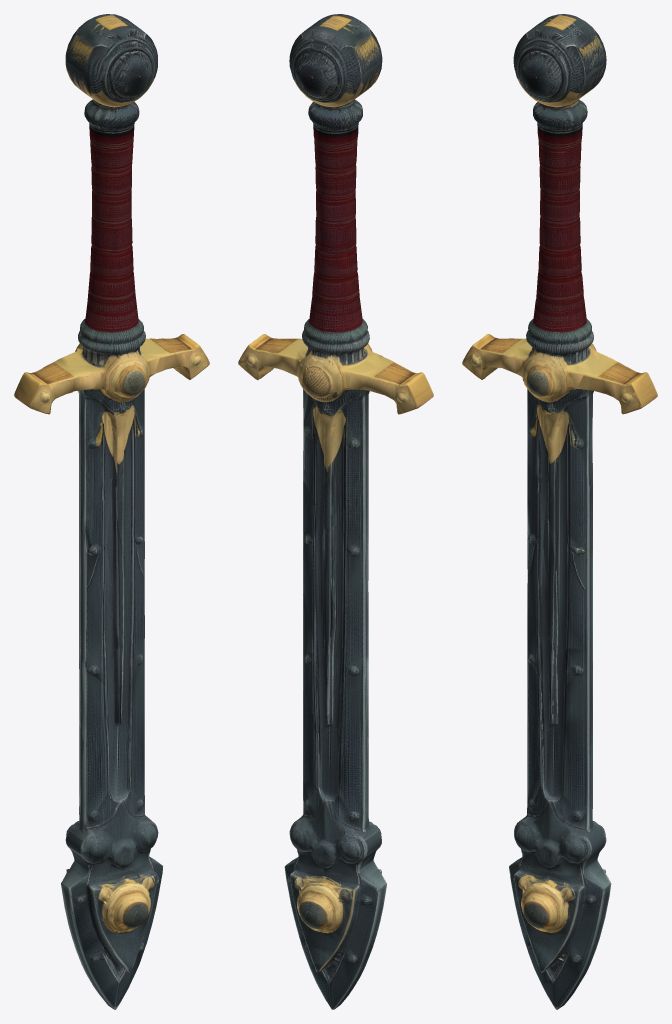
The model's file is sword_gearblade.fbx.
3 views of the same model, side by side, from view 1: azimuth 30°, elevation 25°; view 2: azimuth 150°, elevation 25°; view 3: azimuth 330°, elevation 25° (orthographic).
Visible parts, largest first — view 1: Mesh_0; view 2: Mesh_0; view 3: Mesh_0.
Part boxes in pixels (x1,y1,x2,y2): Mesh_0: (14,14,209,1009); Mesh_0: (238,14,433,1009); Mesh_0: (462,14,657,1009).
Bounding box in the file's own units: 36.45 × 190 × 18.96.
Materials: 1 (1 with a texture image).
